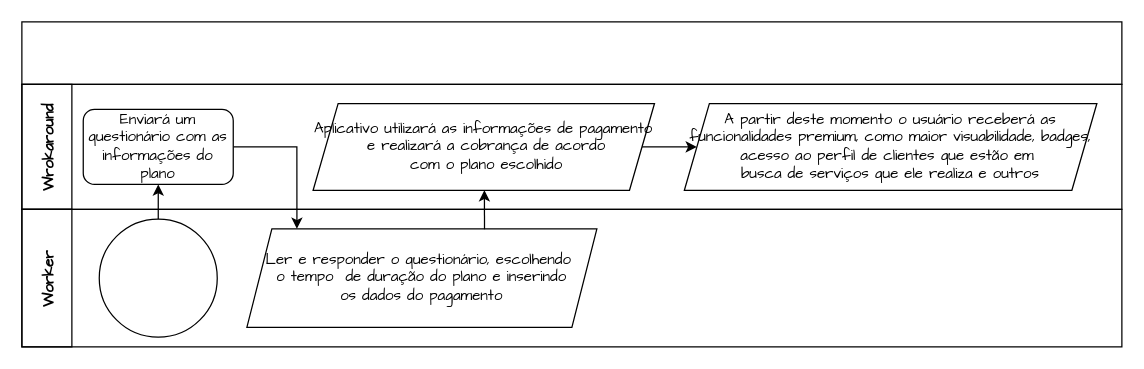
Some shapes in this 1144 by 369 pixel diagram are drawn without their labels. Here are the shapes that lost their labels. From the top down, the box of each, then its label:
(21, 21, 1122, 84): Fluxograma de Pagamento WorkAround
(98, 218, 217, 337): Worker decide assinar ao plano premium
